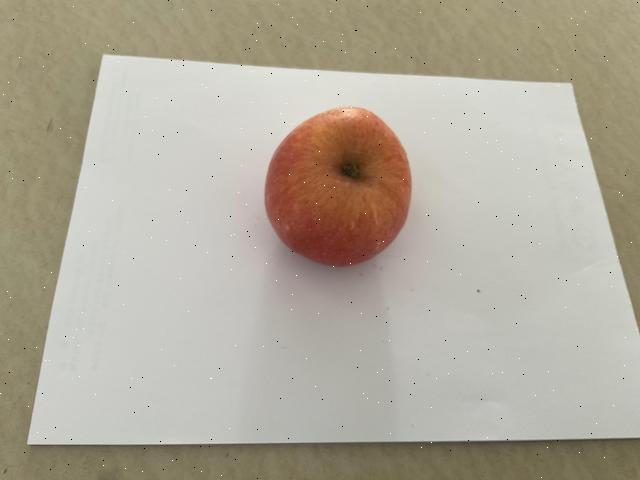apple: (258, 100, 417, 270)
